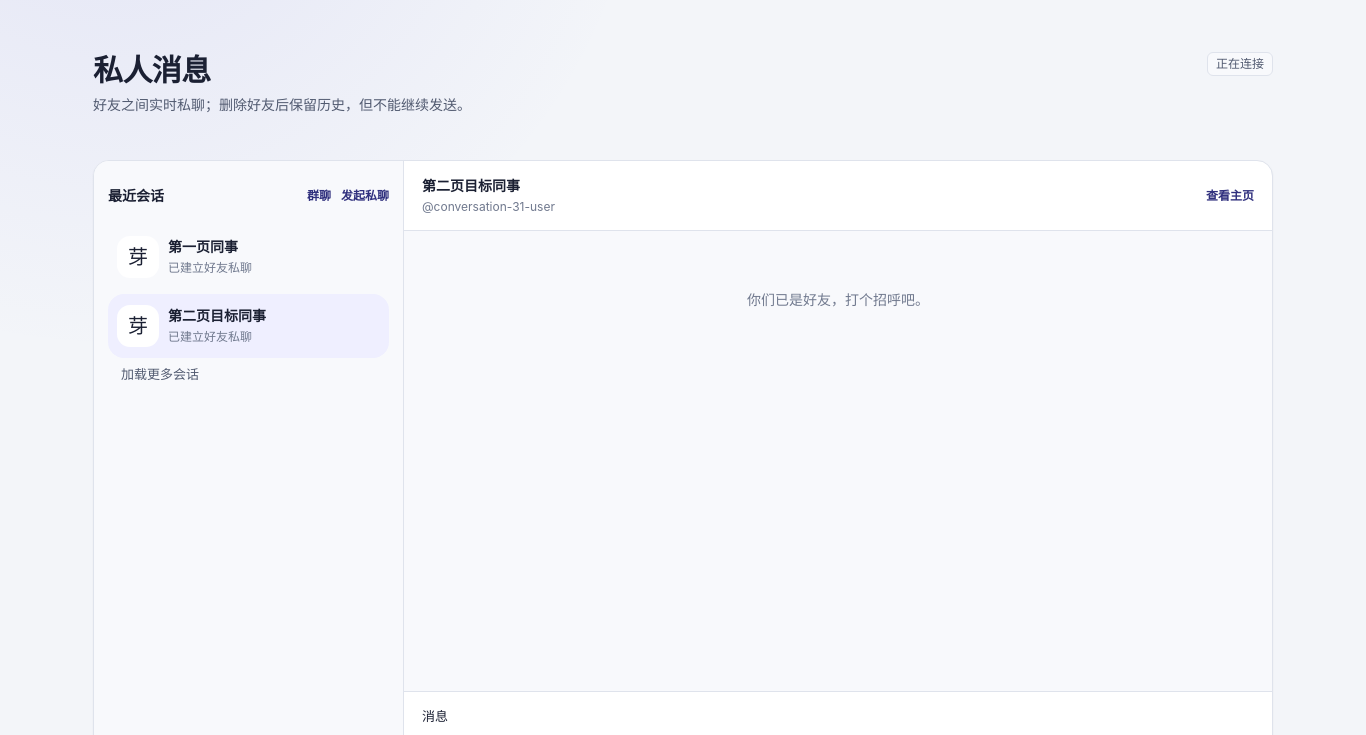
Scenario: CommunityDirectMessagesPage › finds a deep-linked conversation on the second page and can load later pages
This screenshot has width=1366, height=735.
Expected: the text "第二页目标同事" below "第一页同事" is shown, [168, 307, 266, 324]
What coordinates should you click on to do the following:
click the button "加载更多会话"
I would click on:
 (160, 375)
Its box is [108, 358, 212, 392].
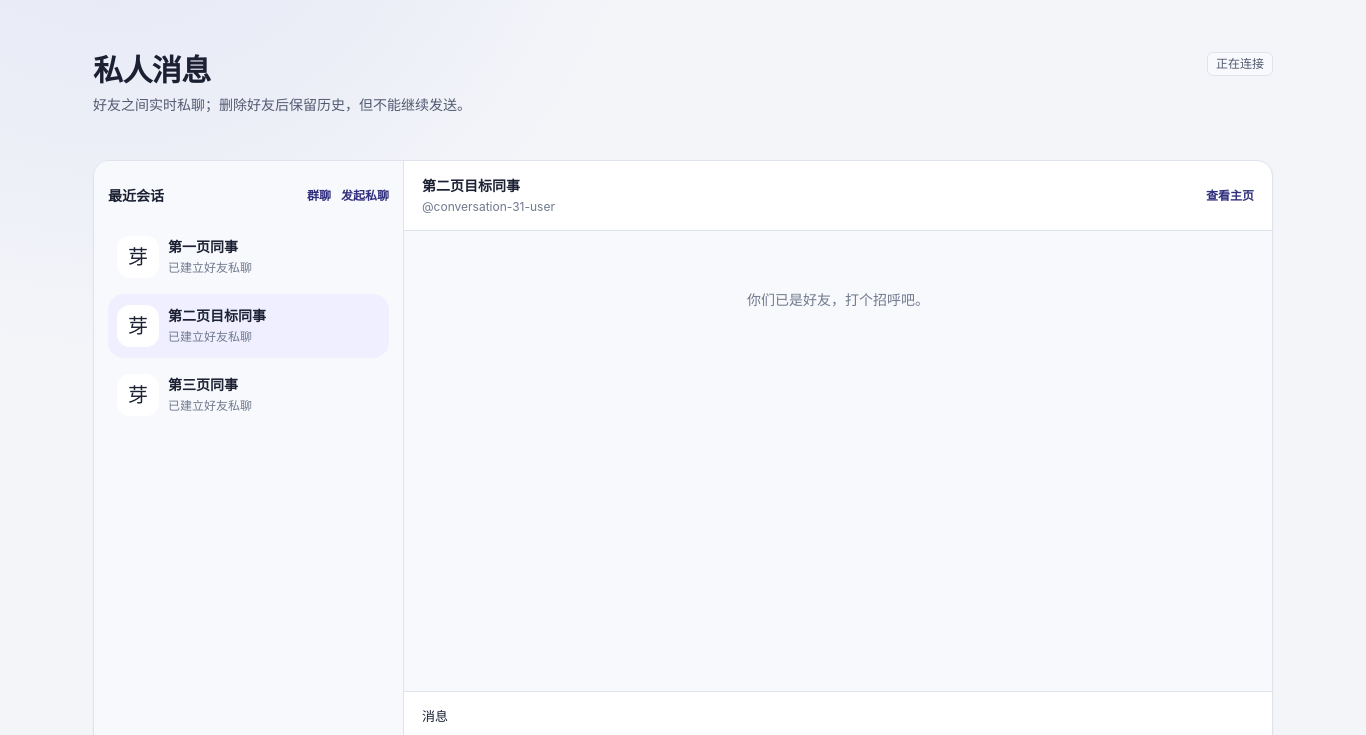
Expected: the text "第三页同事" is shown, [168, 376, 238, 393]
